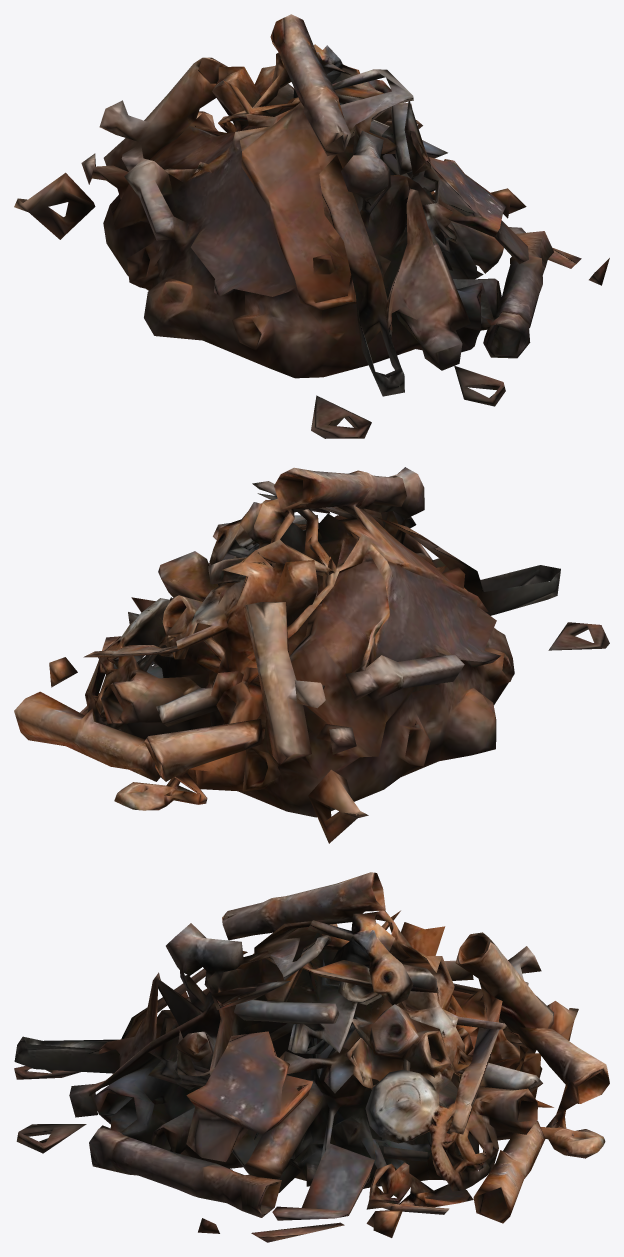
Rendered from qr_scrap1.glb.
3 renders of one model, top to bottom at view 1: azimuth 30°, elevation 25°; view 2: azimuth 150°, elevation 25°; view 3: azimuth 270°, elevation 25°, orthographic. The views are drawn at different scales.
Parts seen in each view (by area): view 1: tripo_node_846dd0f6-5255-4a68-82e5-baebb93c42b3; view 2: tripo_node_846dd0f6-5255-4a68-82e5-baebb93c42b3; view 3: tripo_node_846dd0f6-5255-4a68-82e5-baebb93c42b3.
Boxes of the visible parts, bbox=[...] form: tripo_node_846dd0f6-5255-4a68-82e5-baebb93c42b3: bbox=[14, 14, 609, 438]; tripo_node_846dd0f6-5255-4a68-82e5-baebb93c42b3: bbox=[14, 467, 609, 843]; tripo_node_846dd0f6-5255-4a68-82e5-baebb93c42b3: bbox=[14, 872, 609, 1242].
Size of the model in its own units: 0.785 by 0.4812 by 1.
Materials: 1 (1 with a texture image).
